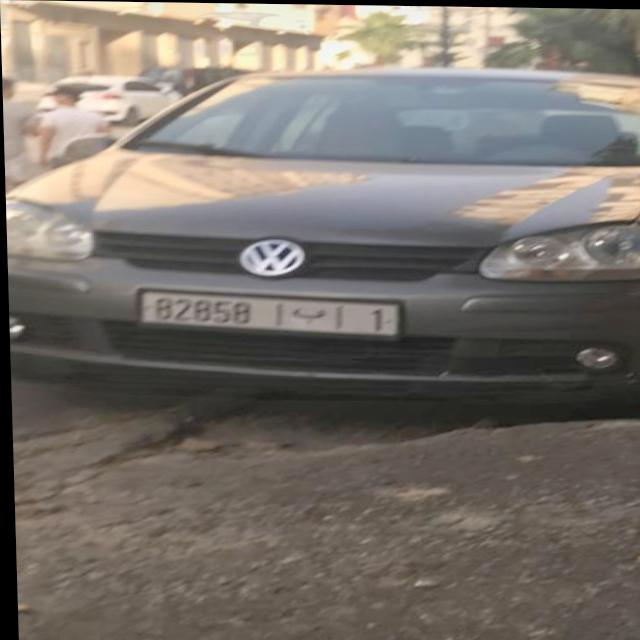License-Plate: (140, 292, 397, 335)
